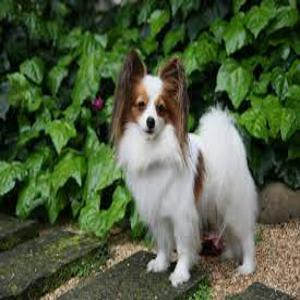yell: (111, 49, 256, 285)
